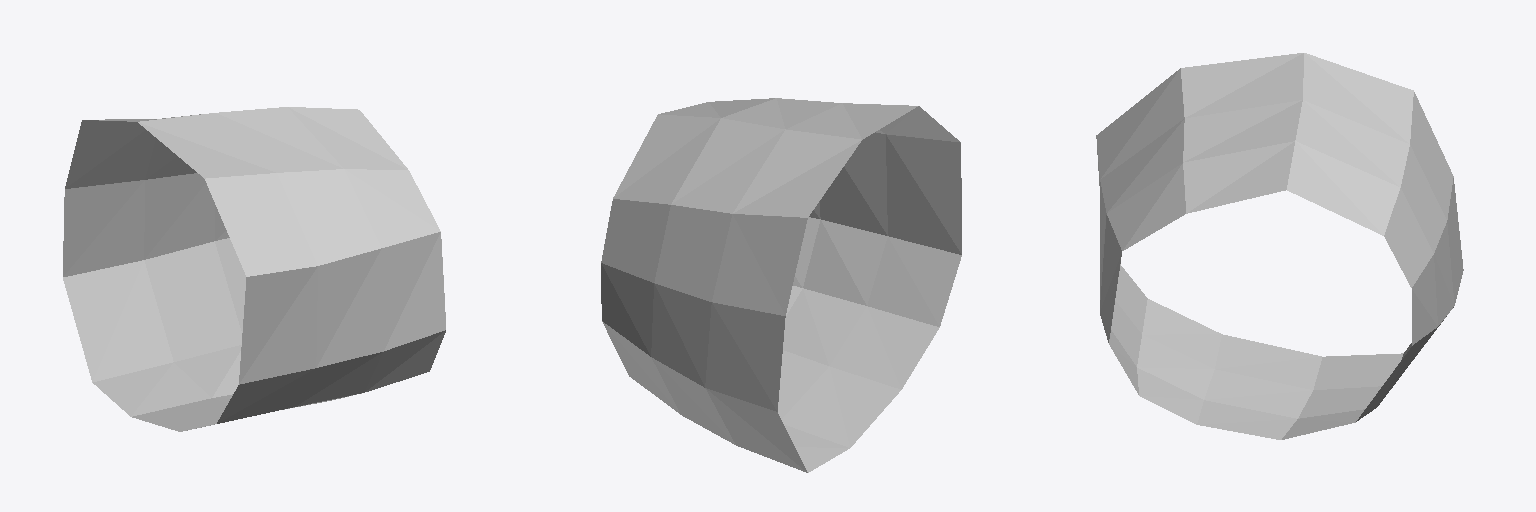
The model's file is LAS_1_Upper-arm_L.obj.
3 views of the same model, side by side, from view 1: azimuth 30°, elevation 25°; view 2: azimuth 150°, elevation 25°; view 3: azimuth 270°, elevation 25° (orthographic).
Visible parts, largest first — view 1: Knight.018_proxy741.obj.016; view 2: Knight.018_proxy741.obj.016; view 3: Knight.018_proxy741.obj.016.
Boxes of the visible parts, x1,y1,x2,y2 form: Knight.018_proxy741.obj.016: [63, 107, 445, 431]; Knight.018_proxy741.obj.016: [601, 98, 961, 472]; Knight.018_proxy741.obj.016: [1096, 53, 1463, 439].
Bounding box in the file's own units: 0.1297 × 0.1754 × 0.193.